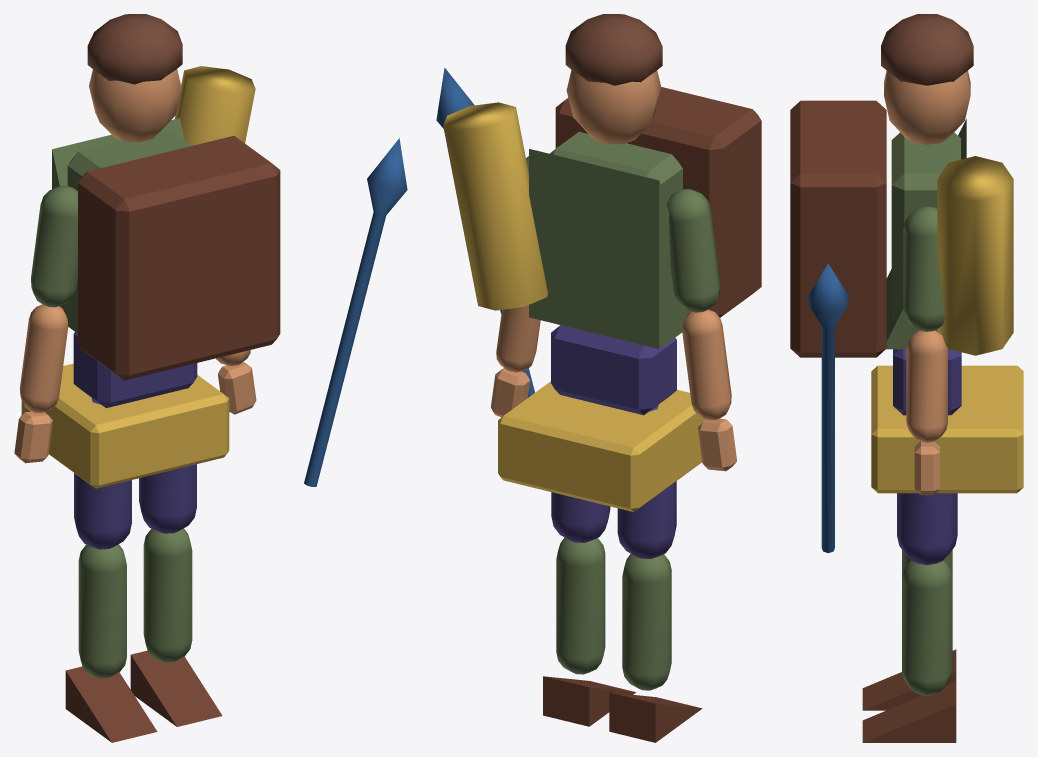
File: adventurer.rustic.glb
3 views of the same model, side by side, from view 1: azimuth 30°, elevation 25°; view 2: azimuth 150°, elevation 25°; view 3: azimuth 270°, elevation 25° (orthographic).
Visible parts, largest first — view 1: accessory.body, accessory.waist, shin.right, shin.left, accessory.main-hand, hair, accessory.back, upper-arm.left, head, foot.left, foot.right, forearm.left (+7 smaller); view 2: tunic, accessory.waist, accessory.body, accessory.back, pelvis, shin.right, shin.left, hair, upper-arm.left, head, forearm.left, torso (+8 smaller); view 3: accessory.body, accessory.waist, accessory.back, shin.right, hair, torso, accessory.main-hand, head, upper-arm.right, forearm.right, foot.right, thigh.right (+4 smaller).
Boxes of the visible parts, x1=… form: accessory.body: x1=78, y1=136, x2=280, y2=380; accessory.waist: x1=21, y1=363, x2=229, y2=488; shin.right: x1=143, y1=528, x2=192, y2=662; shin.left: x1=78, y1=544, x2=126, y2=678; accessory.main-hand: x1=304, y1=138, x2=407, y2=486; hair: x1=87, y1=14, x2=182, y2=84; accessory.back: x1=174, y1=66, x2=255, y2=145; upper-arm.left: x1=31, y1=185, x2=77, y2=307; head: x1=89, y1=69, x2=181, y2=142; foot.left: x1=65, y1=666, x2=157, y2=742; foot.right: x1=130, y1=650, x2=222, y2=726; forearm.left: x1=19, y1=304, x2=68, y2=413; tunic: x1=529, y1=149, x2=690, y2=348; accessory.waist: x1=498, y1=381, x2=706, y2=512; accessory.body: x1=555, y1=87, x2=761, y2=317; accessory.back: x1=443, y1=102, x2=547, y2=310; pelvis: x1=551, y1=325, x2=676, y2=415; shin.right: x1=556, y1=537, x2=605, y2=674; shin.left: x1=622, y1=554, x2=671, y2=690; hair: x1=565, y1=14, x2=662, y2=85; upper-arm.left: x1=666, y1=189, x2=720, y2=312; head: x1=566, y1=70, x2=661, y2=144; forearm.left: x1=682, y1=309, x2=731, y2=420; torso: x1=550, y1=131, x2=682, y2=203; accessory.body: x1=790, y1=100, x2=886, y2=357; accessory.waist: x1=871, y1=365, x2=1023, y2=493; accessory.back: x1=937, y1=156, x2=1013, y2=355; shin.right: x1=902, y1=560, x2=952, y2=695; hair: x1=881, y1=14, x2=973, y2=85; torso: x1=891, y1=132, x2=960, y2=319; accessory.main-hand: x1=807, y1=263, x2=849, y2=553; head: x1=884, y1=71, x2=970, y2=144; upper-arm.right: x1=903, y1=206, x2=944, y2=331; forearm.right: x1=906, y1=330, x2=947, y2=442; foot.right: x1=862, y1=681, x2=956, y2=742; thigh.right: x1=897, y1=493, x2=957, y2=565.
Bounding box in the file's own units: 1.57 × 3.03 × 0.92.
